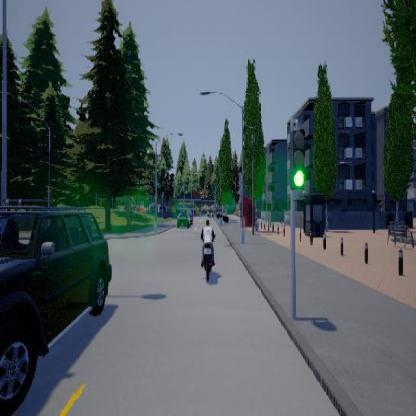motobike: (200, 217, 214, 282)
traffic_light_green: (289, 119, 305, 200)
vehicle: (0, 198, 111, 415), (176, 209, 192, 228)
